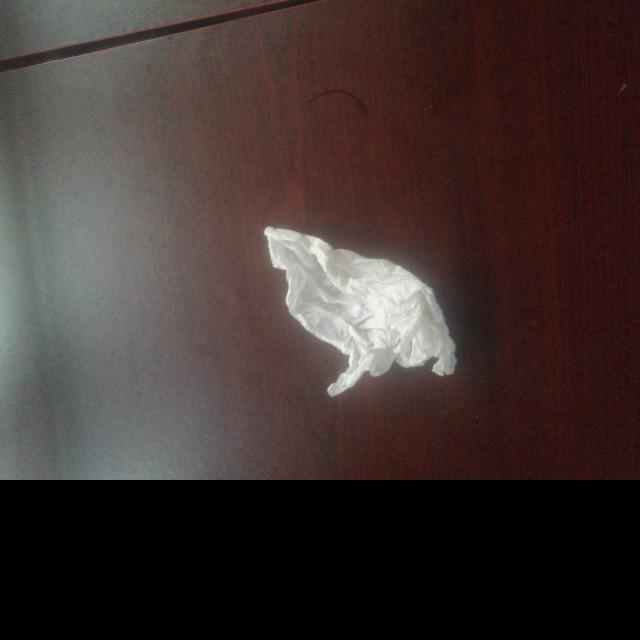kitchen paper: (259, 220, 465, 400)
